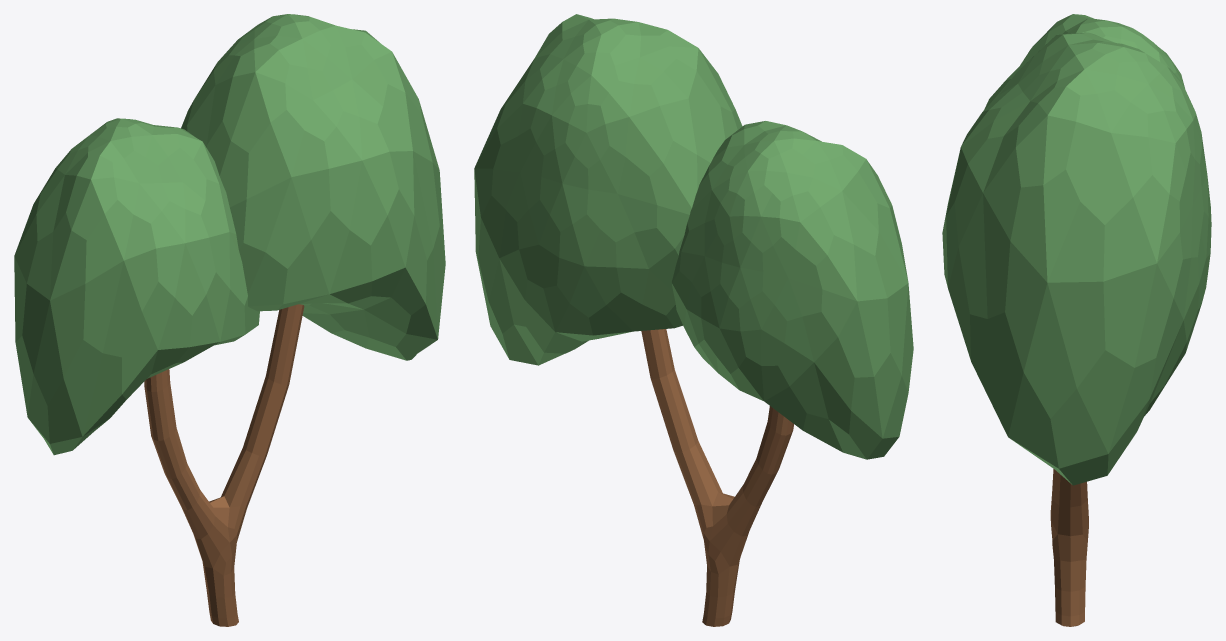
The model's file is Tree4.glb.
3 views of the same model, side by side, from view 1: azimuth 30°, elevation 25°; view 2: azimuth 150°, elevation 25°; view 3: azimuth 270°, elevation 25° (orthographic). The views are drawn at different scales.
Visible parts, largest first — view 1: Tree4; view 2: Tree4; view 3: Tree4.
Part boxes in pixels (bbox=[...]): Tree4: bbox=[14, 14, 445, 626]; Tree4: bbox=[474, 14, 913, 626]; Tree4: bbox=[942, 14, 1211, 626].
Bounding box in the file's own units: 3.8 × 5.24 × 2.05.
